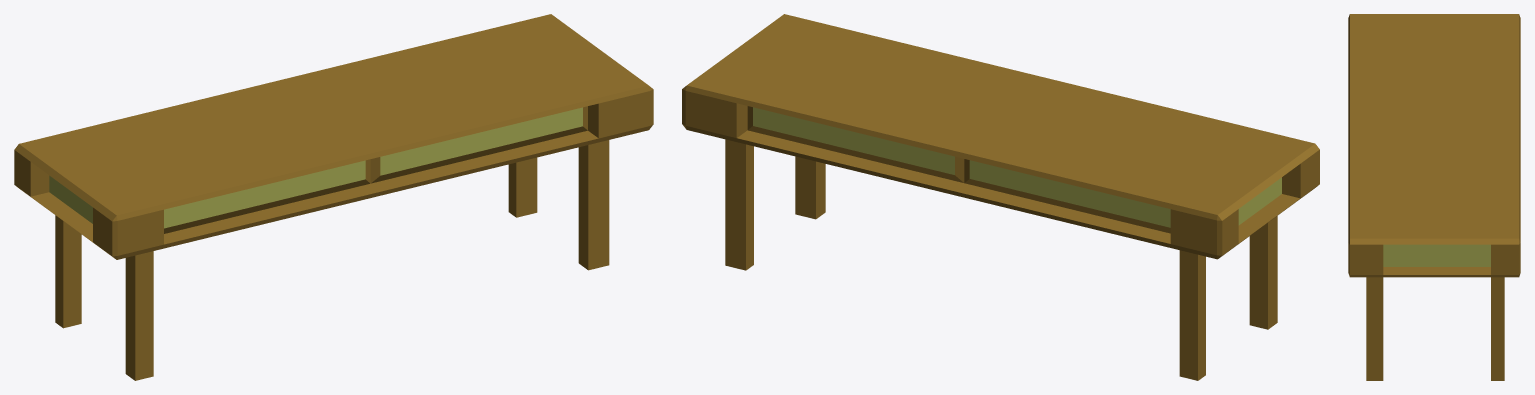
The model's file is TVSet_Material.fbx.
3 renders of one model, left to right at view 1: azimuth 30°, elevation 25°; view 2: azimuth 150°, elevation 25°; view 3: azimuth 270°, elevation 25°, orthographic. The views are drawn at different scales.
Parts seen in each view (by area): view 1: TVSet; view 2: TVSet; view 3: TVSet.
Part boxes in pixels (<box>): TVSet: <box>14,14,653,380</box>; TVSet: <box>682,14,1319,380</box>; TVSet: <box>1348,14,1520,380</box>.
Size of the model in its own units: 1.17 by 0.3689 by 0.3713.
